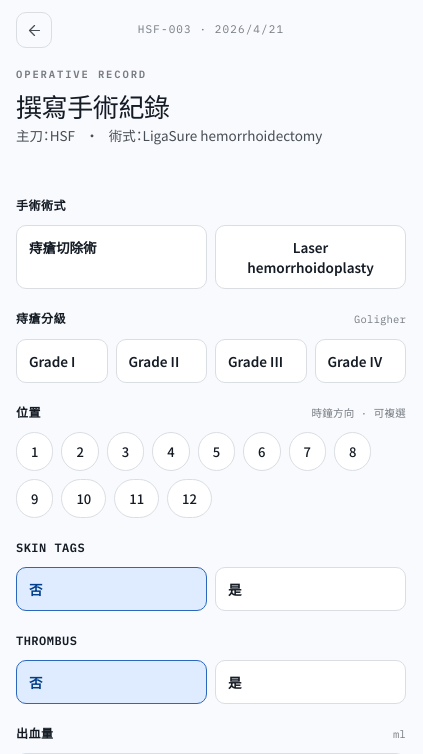
SurgicalRecord › hemorrhoidectomy subtype block appears only when that procedure selected
The image size is (423, 754).
Expected: the heading "撰寫手術紀錄" is shown, x1=16 y1=87 x2=170 y2=124
Expected: the text "Hemorrhoidectomy 分型" is not shown
Click the button "痔瘡切除術" at (112, 258), box x1=16 y1=226 x2=207 y2=290
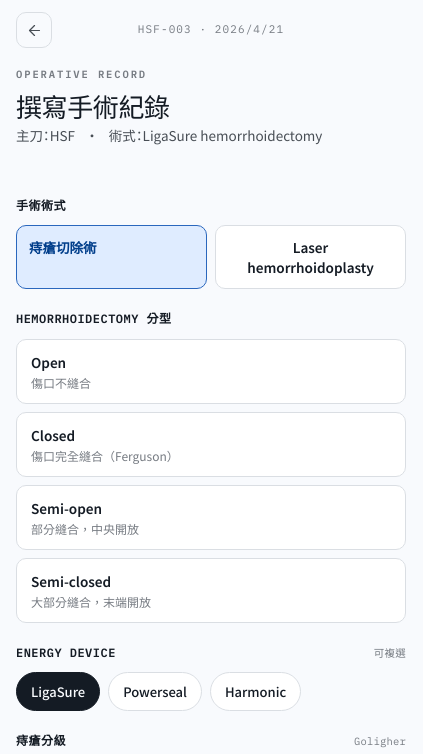
Expected: the text "Hemorrhoidectomy 分型" is shown, x1=16 y1=312 x2=172 y2=326
Expected: the text "Open" is shown, x1=31 y1=352 x2=66 y2=372
